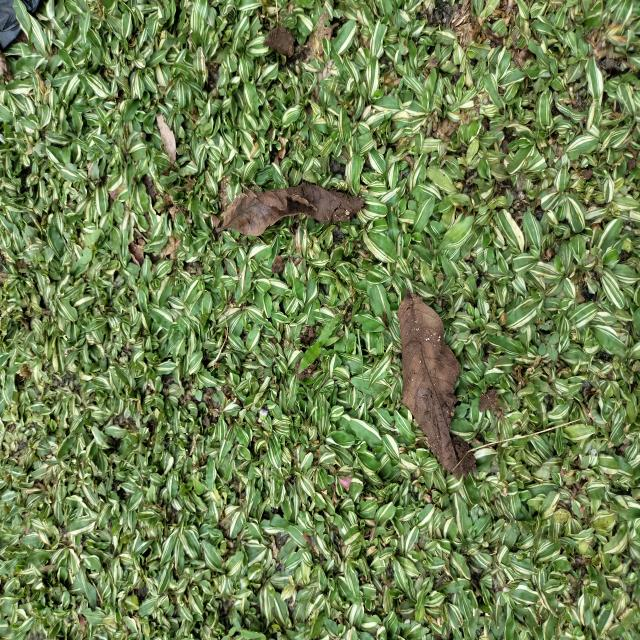rambat bawah: (297, 312, 347, 375)
tunggang tengah: (536, 331, 560, 362), (535, 305, 555, 332)
